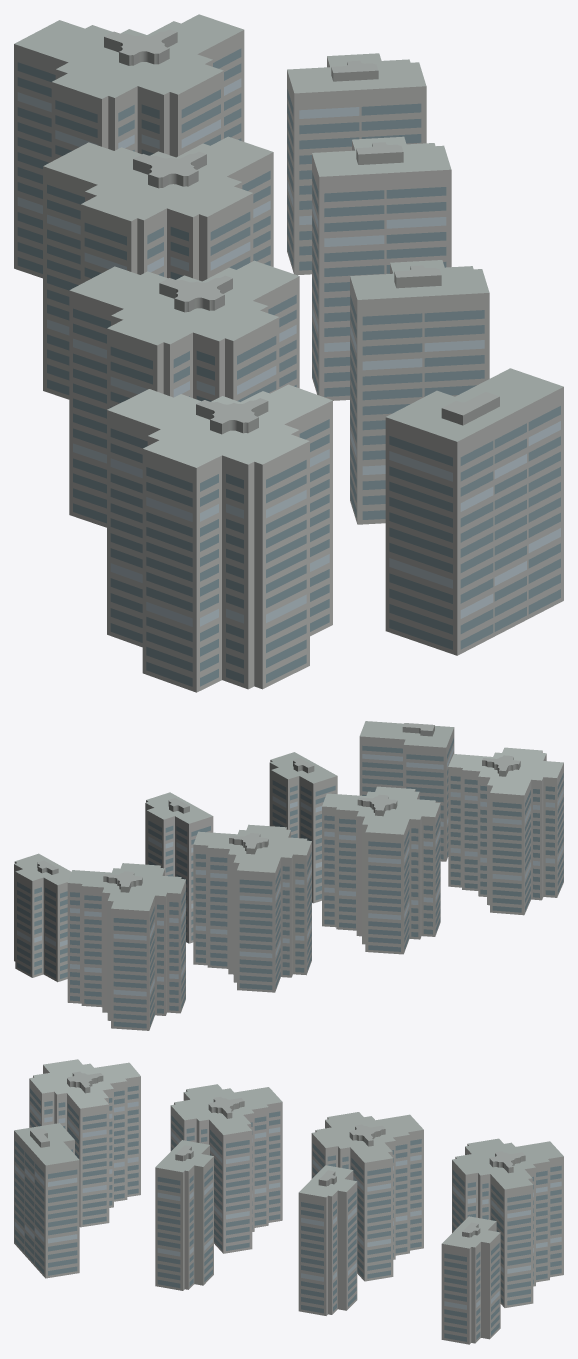
Rendered from apt-a10023994.glb.
The picture shows the model from 3 angles, top to bottom: view 1: azimuth 30°, elevation 25°; view 2: azimuth 150°, elevation 25°; view 3: azimuth 270°, elevation 25°; orthographic projection. The views are drawn at different scales.
Parts seen in each view (by area): view 1: apt-a10023994; view 2: apt-a10023994; view 3: apt-a10023994.
Part boxes in pixels (x1,y1,x2,y2): apt-a10023994: (14, 14, 563, 692); apt-a10023994: (14, 721, 563, 1030); apt-a10023994: (14, 1059, 563, 1344).
Size of the model in its own units: 121 by 42 by 168.
